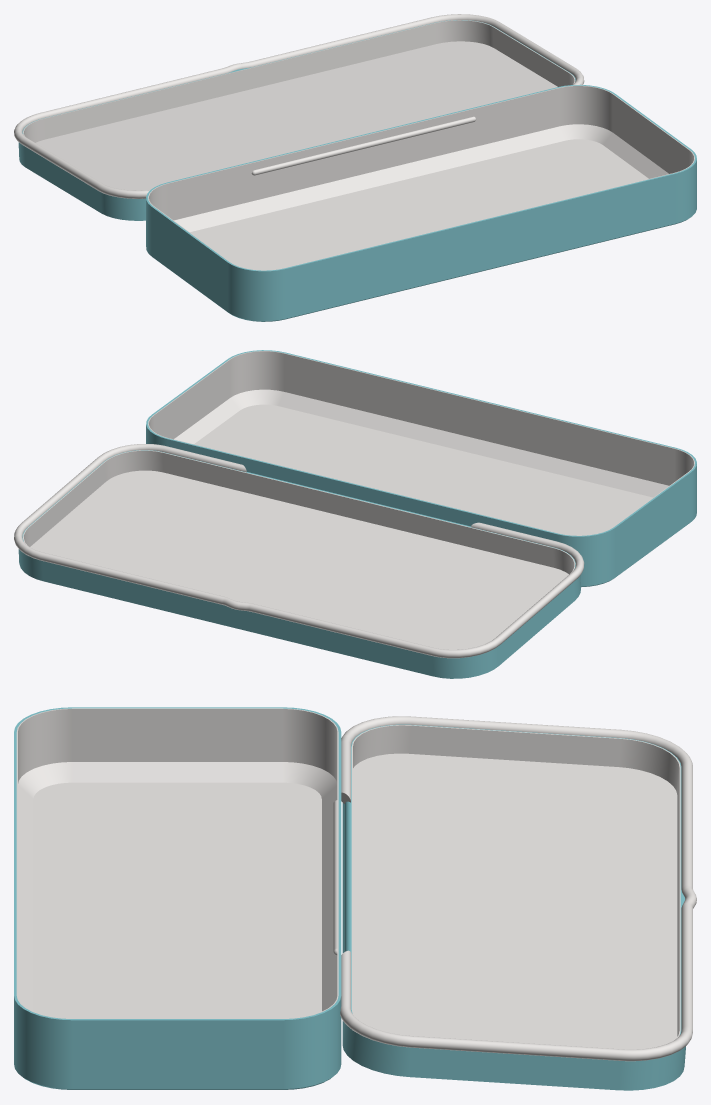
File: 258_ペンケース開.glb
3 views of the same model, one above another, from view 1: azimuth 30°, elevation 25°; view 2: azimuth 150°, elevation 25°; view 3: azimuth 270°, elevation 25° (orthographic). The views are drawn at different scales.
Parts seen in each view (by area): view 1: Body1, 蓋; view 2: 蓋, Body1; view 3: 蓋, Body1.
Part boxes in pixels (left/top/right/bottom): Body1: left=146, top=84, right=696, bottom=321; 蓋: left=14, top=14, right=584, bottom=220; 蓋: left=14, top=444, right=584, bottom=678; Body1: left=146, top=350, right=696, bottom=587; 蓋: left=340, top=716, right=696, bottom=1090; Body1: left=14, top=707, right=341, bottom=1089.
Bounding box in the file's own units: 0.197 × 0.0201 × 0.1753.
